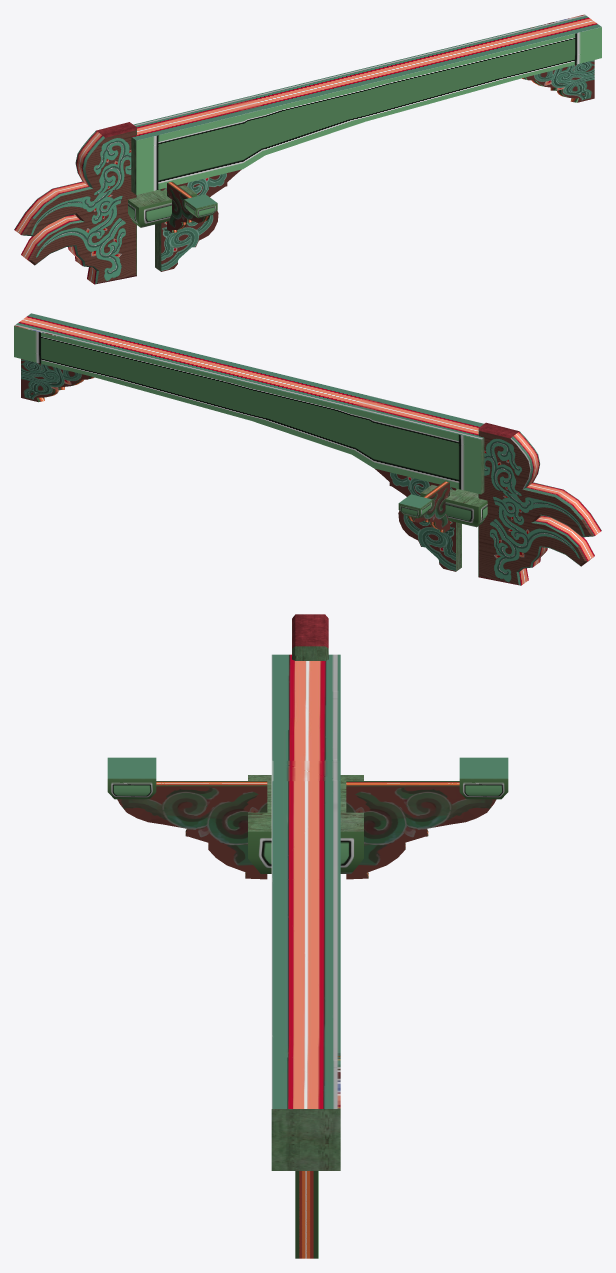
File: SM_R_Beam_4.fbx
3 views of the same model, one above another, from view 1: azimuth 30°, elevation 25°; view 2: azimuth 150°, elevation 25°; view 3: azimuth 270°, elevation 25° (orthographic). The views are drawn at different scales.
Visible parts, largest first — view 1: SM_R_Beam_4; view 2: SM_R_Beam_4; view 3: SM_R_Beam_4.
Boxes of the visible parts, bbox=[...] form: SM_R_Beam_4: bbox=[14, 14, 601, 284]; SM_R_Beam_4: bbox=[14, 313, 601, 585]; SM_R_Beam_4: bbox=[107, 614, 508, 1258].
Bounding box in the file's own units: 465 × 140 × 116.
Materials: 6 (6 with a texture image).
